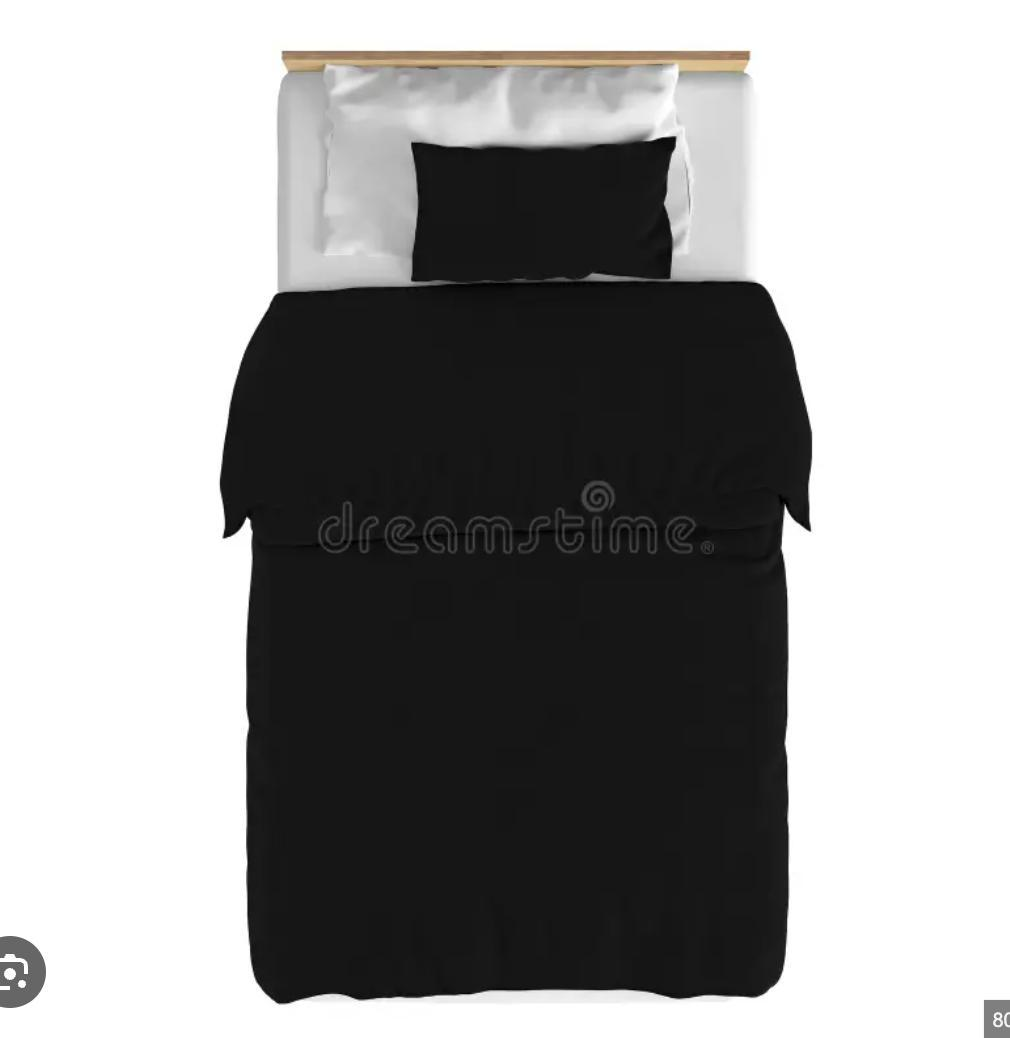Bed-Mattress: (252, 36, 791, 1006)
